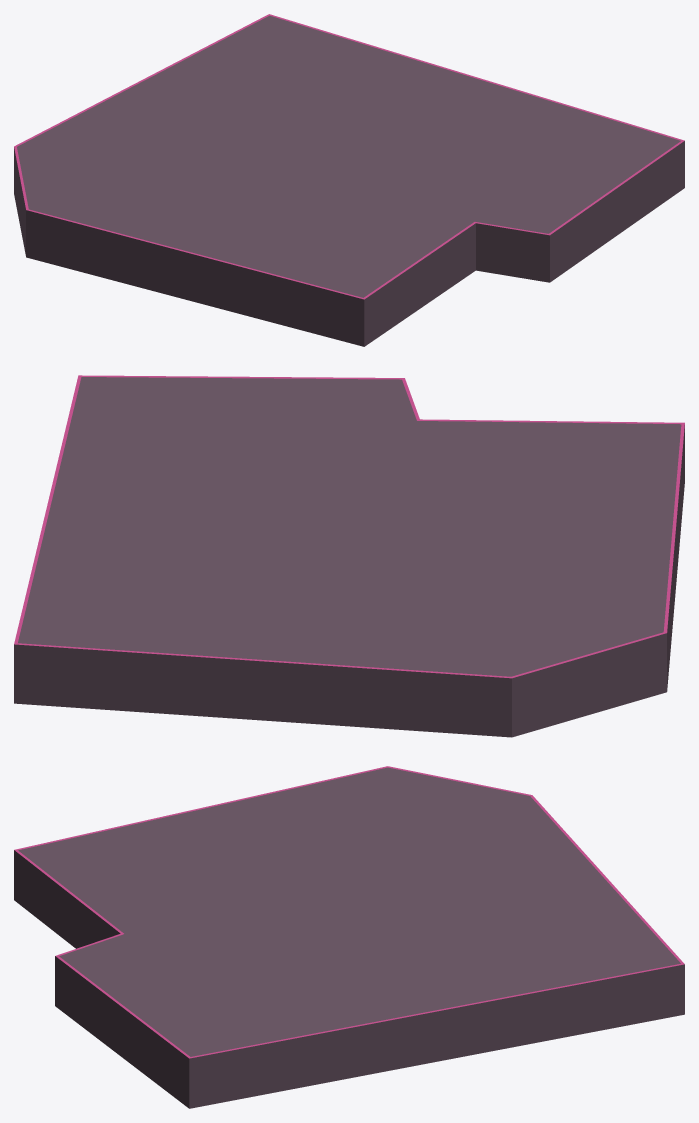
The model's file is way-641119437.glb.
The picture shows the model from 3 angles, top to bottom: view 1: azimuth 30°, elevation 25°; view 2: azimuth 150°, elevation 25°; view 3: azimuth 270°, elevation 25°; orthographic projection. The views are drawn at different scales.
Parts seen in each view (by area): view 1: way-641119437; view 2: way-641119437; view 3: way-641119437.
Part boxes in pixels (x1,y1,x2,y2): way-641119437: (14,14,684,346); way-641119437: (14,375,684,737); way-641119437: (14,766,684,1108).
Bounding box in the file's own units: 37.43 × 3 × 36.29.
